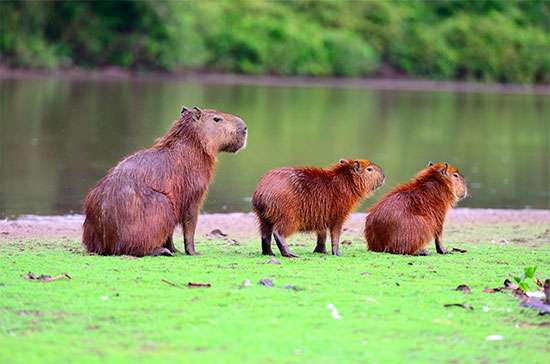capivara: (82, 106, 248, 259), (252, 158, 385, 260), (364, 161, 471, 264)
